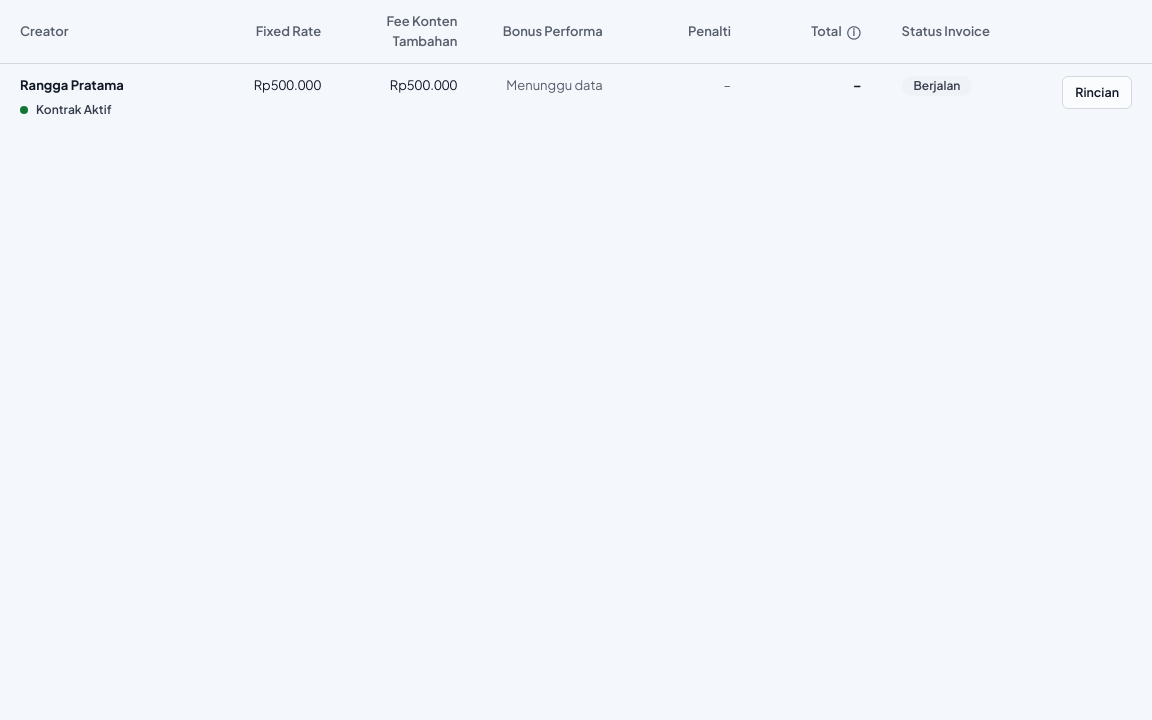
Test: InvoiceBoard › offers a Rincian button per row that opens the whole invoice
The image size is (1152, 720).
Click the button with aria-label "Rincian invoice Rangga Pratama": click(1097, 92) [1062, 76, 1132, 109]
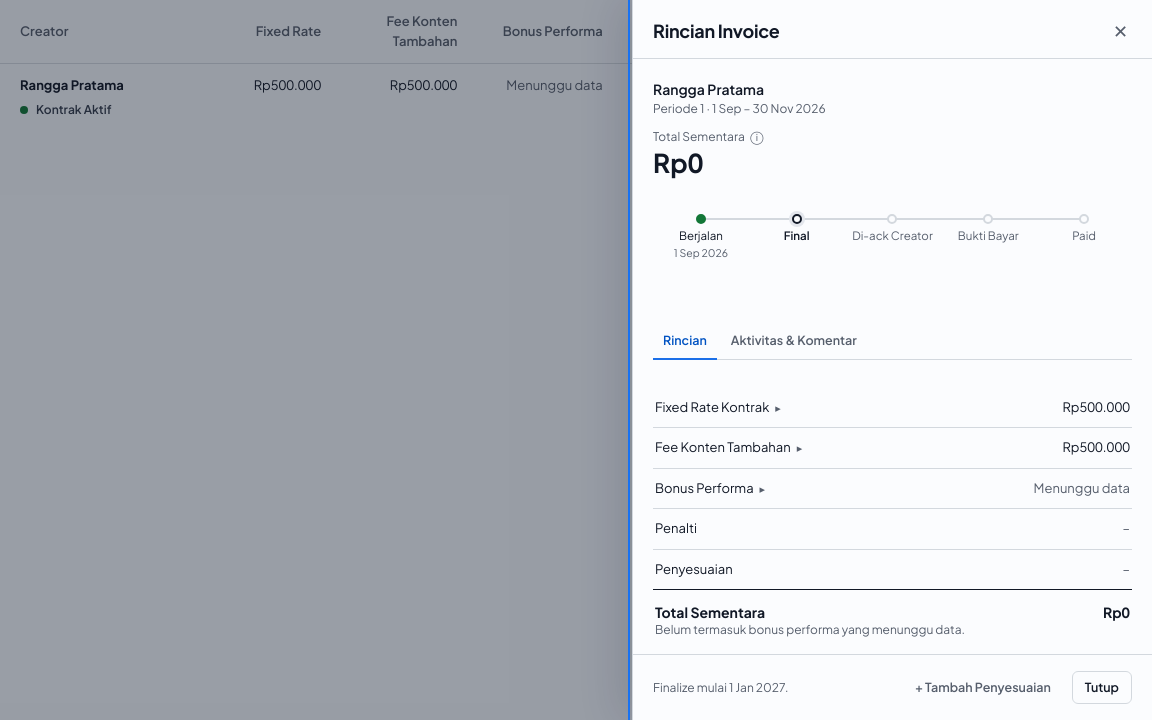
Expected: the dialog "Rincian Invoice" is shown, [632, 0, 1151, 719]
